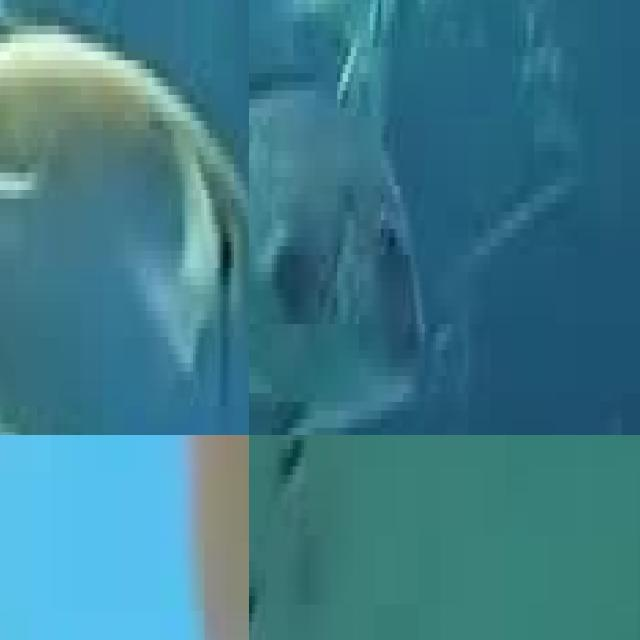fish: (0, 0, 249, 435), (249, 55, 471, 384)
